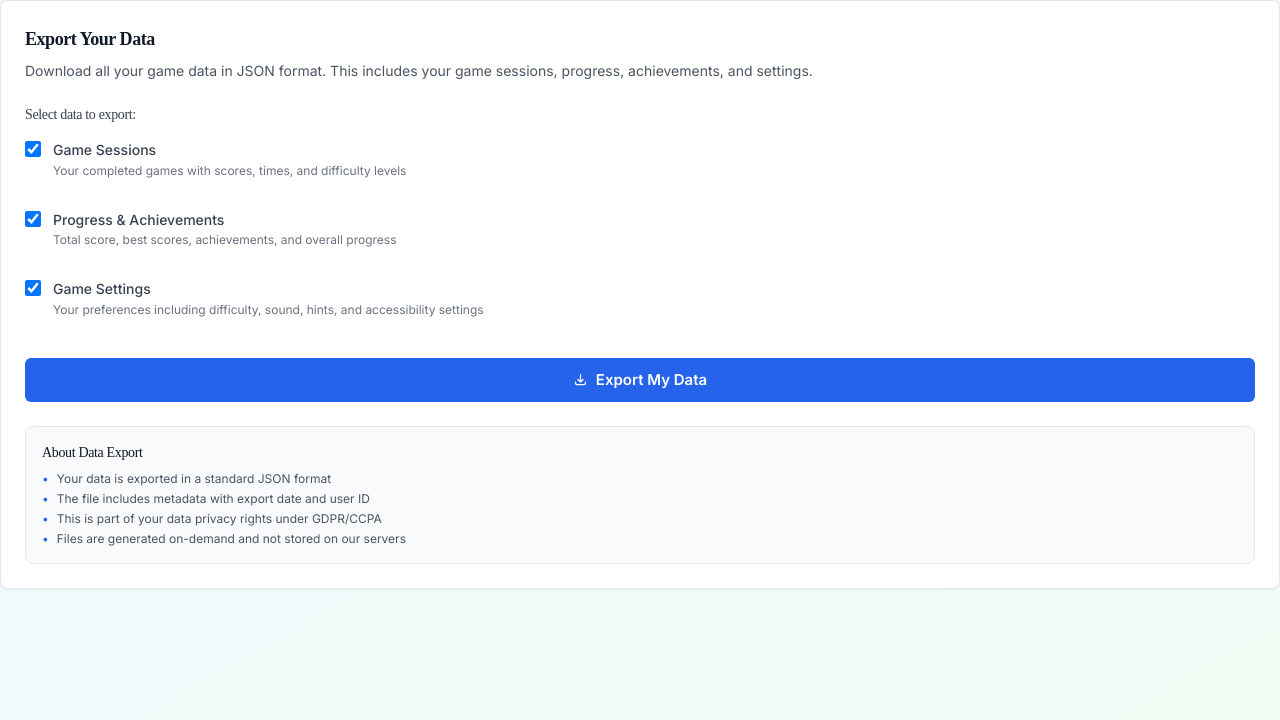
Test: ExportData Component › Data Fetching › should show error when no data types are selected
Note: Uncheck all
Click the checkbox named "Include game sessions".
click(33, 149)  # box [25,141,41,157]
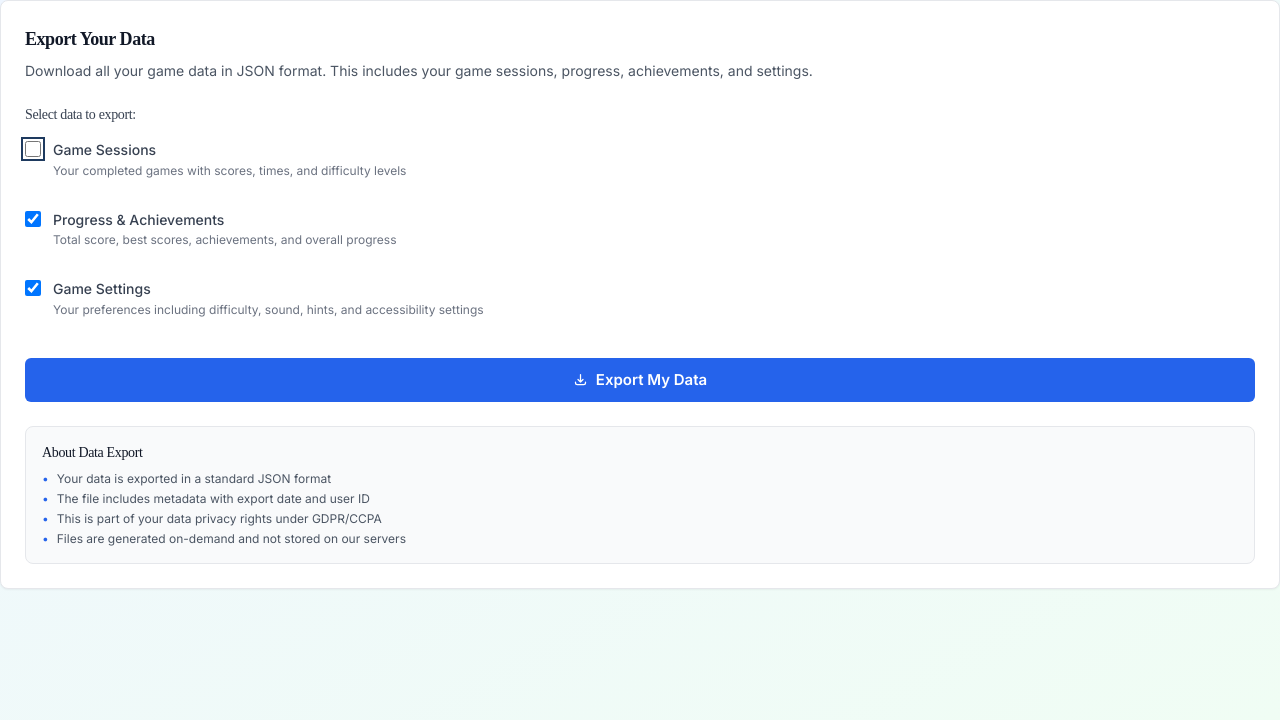
Click the checkbox named "Include user progress".
click(33, 219)  # box [25,211,41,227]
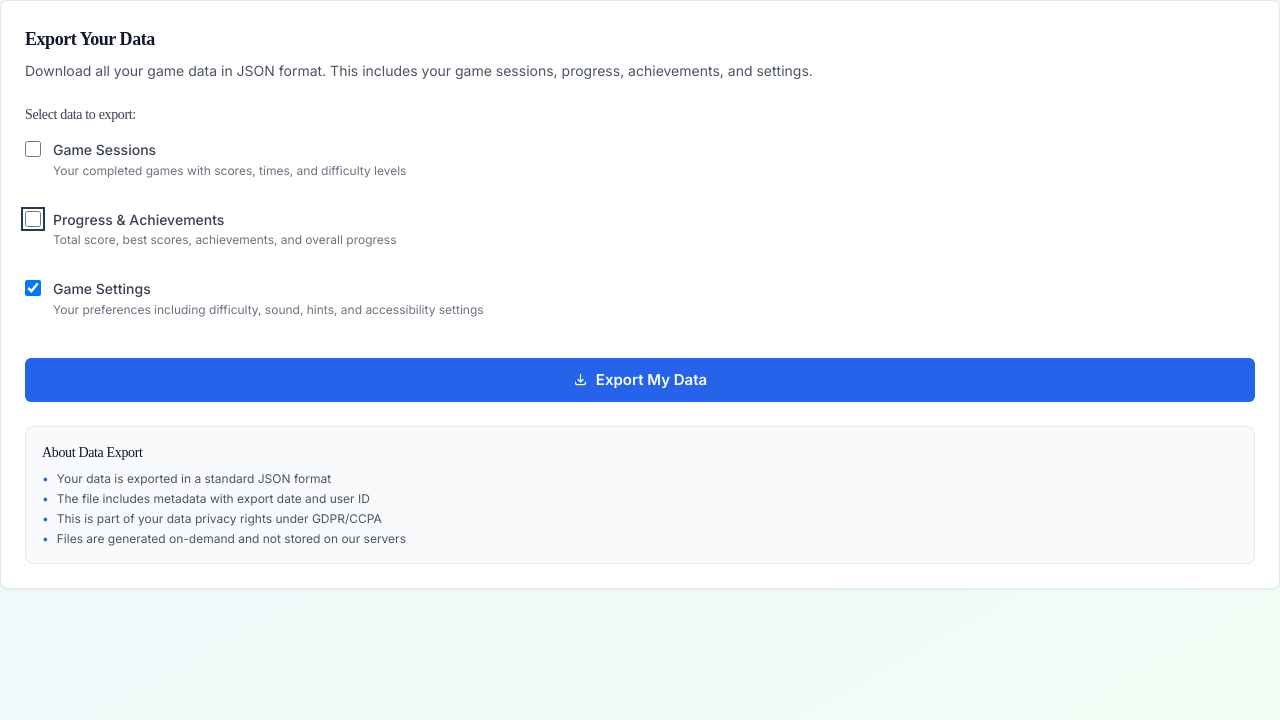
Click the checkbox named "Include game settings".
click(33, 288)  # box [25,280,41,296]
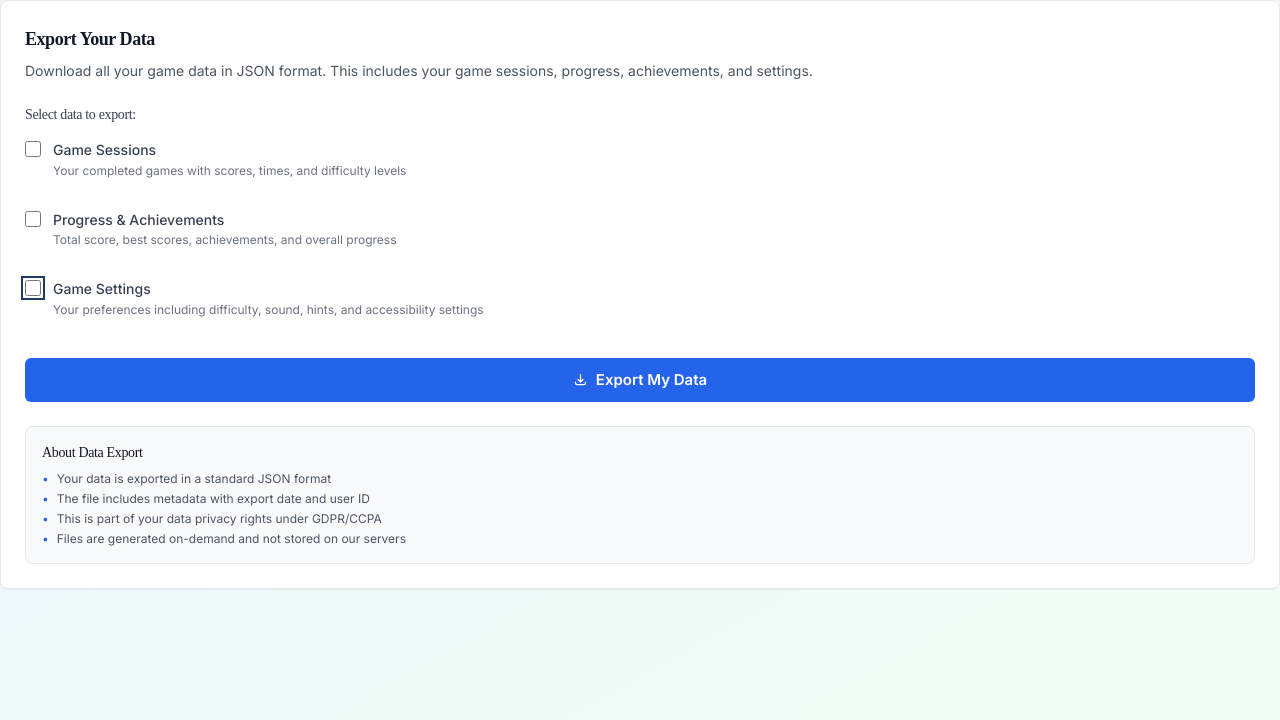
Click the button "Export My Data".
click(640, 380)  # box [25,358,1255,402]
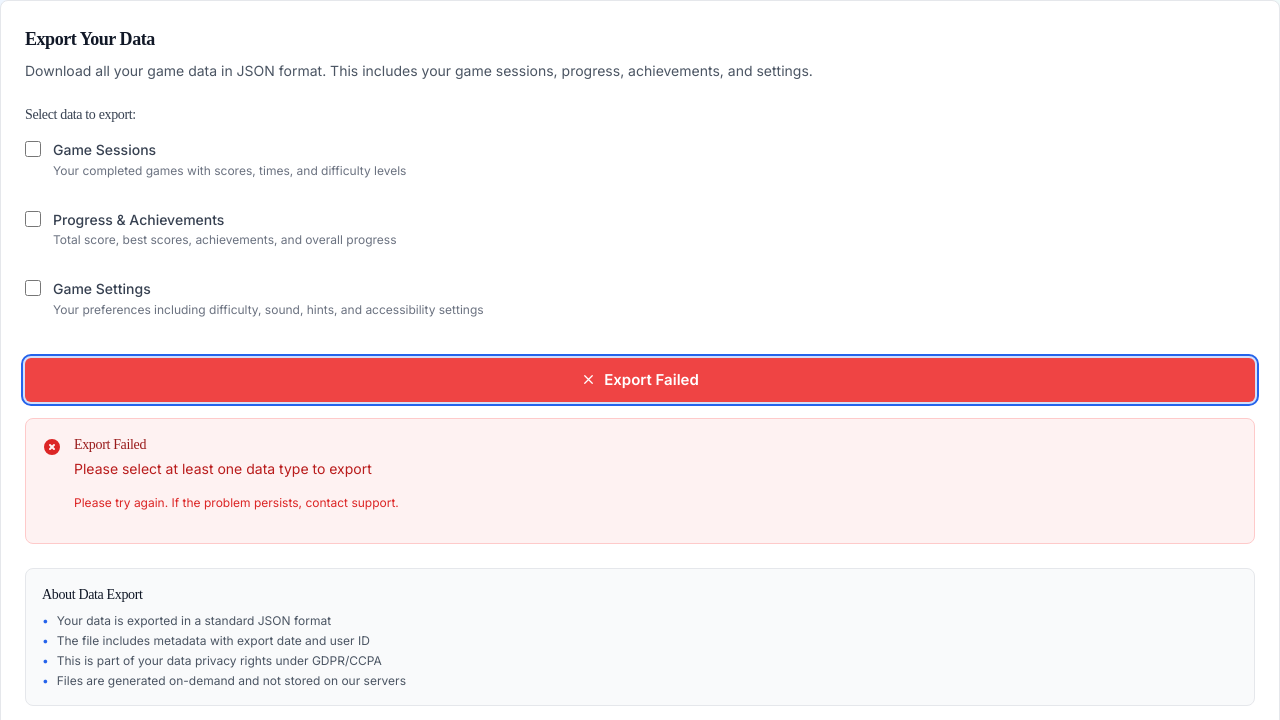
Check: the text "Please select at least one data type to export" is shown, box [74,459,399,479]
